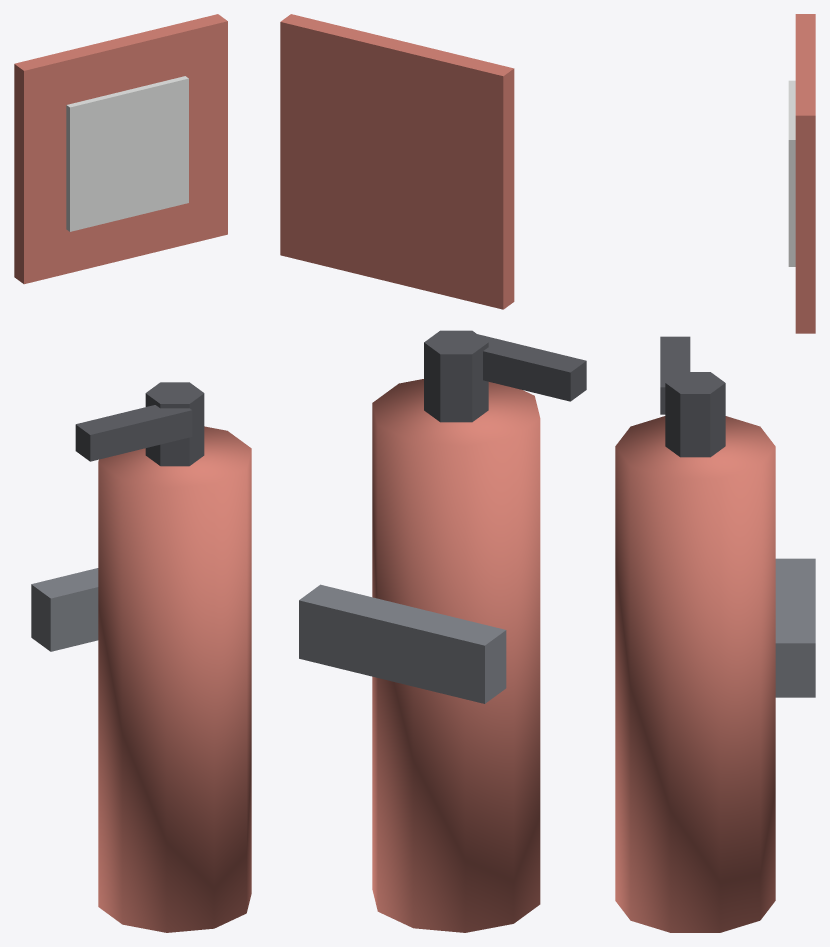
Rendered from prop_extinguisher.fbx.
The picture shows the model from 3 angles, left to right: view 1: azimuth 30°, elevation 25°; view 2: azimuth 150°, elevation 25°; view 3: azimuth 270°, elevation 25°; orthographic projection. The views are drawn at different scales.
Visible parts, largest first — view 1: prop_extinguisher; view 2: prop_extinguisher; view 3: prop_extinguisher.
Part boxes in pixels (x1,y1,x2,y2): prop_extinguisher: [14, 14, 251, 932]; prop_extinguisher: [280, 14, 586, 932]; prop_extinguisher: [615, 14, 815, 932].
Size of the model in its own units: 0.24 by 0.92 by 0.2.
